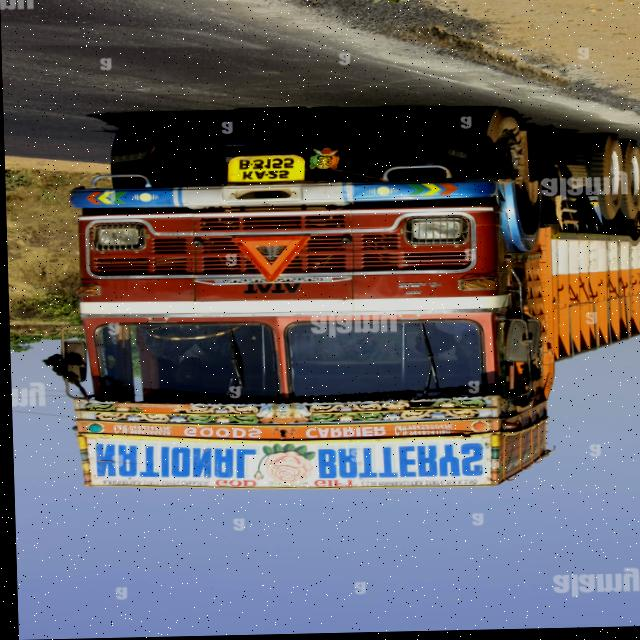plate: (219, 153, 309, 187)
